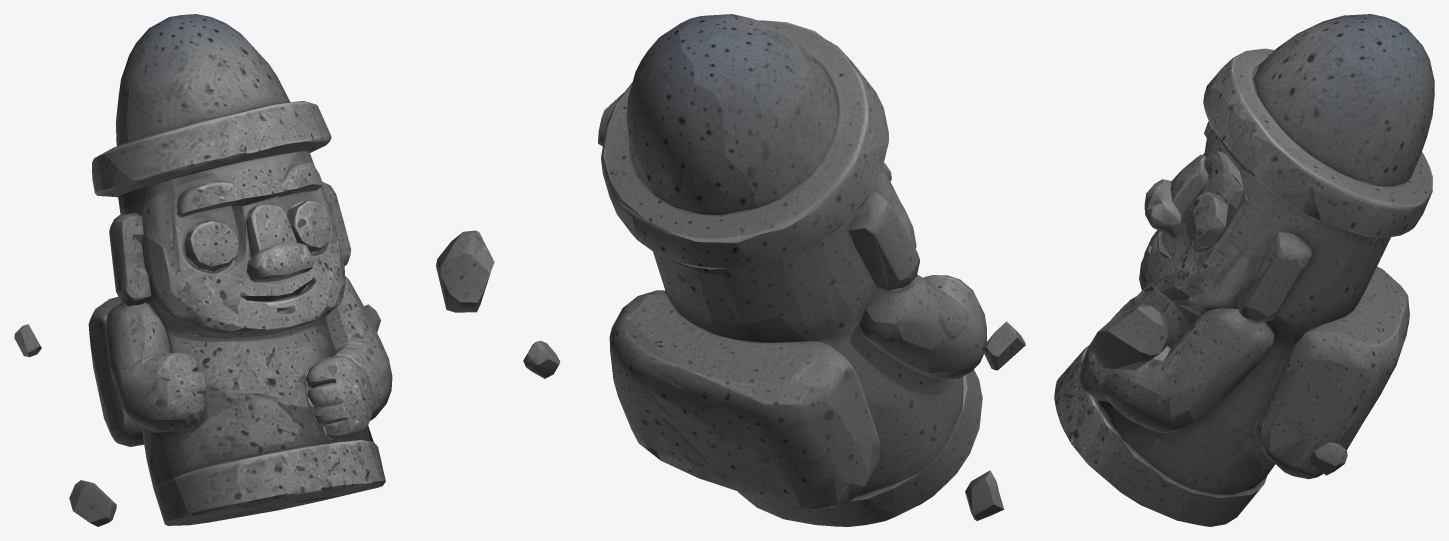
File: harubang.glb
3 views of the same model, side by side, from view 1: azimuth 30°, elevation 25°; view 2: azimuth 150°, elevation 25°; view 3: azimuth 270°, elevation 25° (orthographic). The views are drawn at different scales.
Parts seen in each view (by area): view 1: harubang; view 2: harubang; view 3: harubang.
Boxes of the visible parts, left/top/right/bottom form: harubang: left=14, top=14, right=494, bottom=526; harubang: left=523, top=14, right=1025, bottom=526; harubang: left=1054, top=14, right=1434, bottom=526.
Bounding box in the file's own units: 1.8 × 1.9 × 1.35.
Materials: 1 (1 with a texture image).
